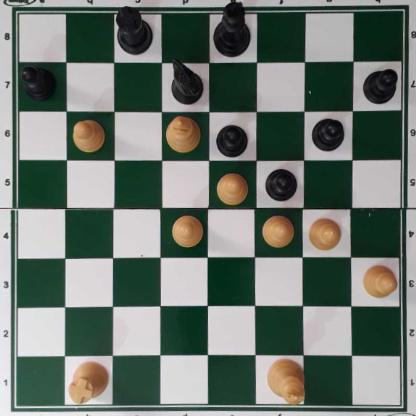black-king: (213, 1, 251, 59)
black-knight: (169, 59, 203, 102)
black-pawn: (20, 62, 56, 100), (362, 67, 398, 104), (215, 120, 249, 156), (311, 116, 344, 151), (265, 166, 297, 202)
black-rook: (114, 5, 155, 53)
white-bishop: (167, 114, 199, 153)
white-king: (266, 357, 305, 406)
white-pawn: (360, 262, 398, 299), (308, 215, 342, 251), (72, 117, 106, 153), (214, 171, 250, 204), (261, 212, 294, 248), (170, 215, 203, 247)
white-rook: (69, 360, 110, 403)
